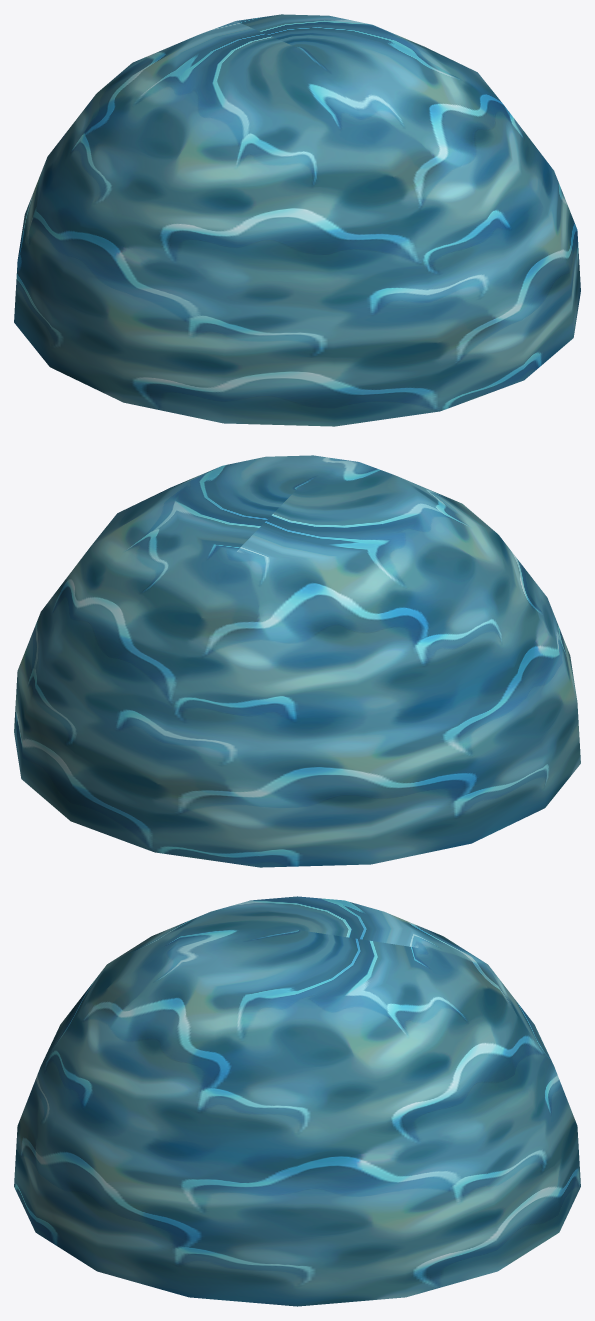
File: banqiu.FBX
The picture shows the model from 3 angles, top to bottom: view 1: azimuth 30°, elevation 25°; view 2: azimuth 150°, elevation 25°; view 3: azimuth 270°, elevation 25°; orthographic projection.
Parts seen in each view (by area): view 1: Sphere001; view 2: Sphere001; view 3: Sphere001.
Part boxes in pixels (x1,y1,x2,y2): Sphere001: [14, 14, 580, 426]; Sphere001: [14, 455, 580, 867]; Sphere001: [14, 896, 580, 1306].
Size of the model in its own units: 78.85 by 78.85 by 39.41.
